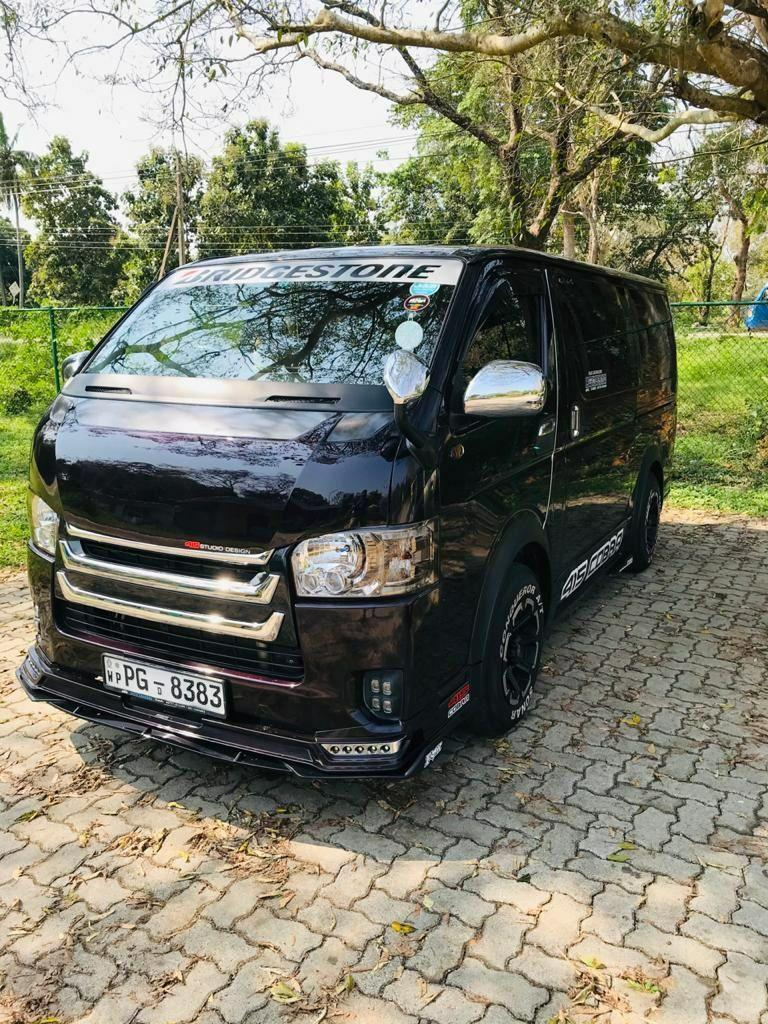car: (35, 243, 694, 790)
